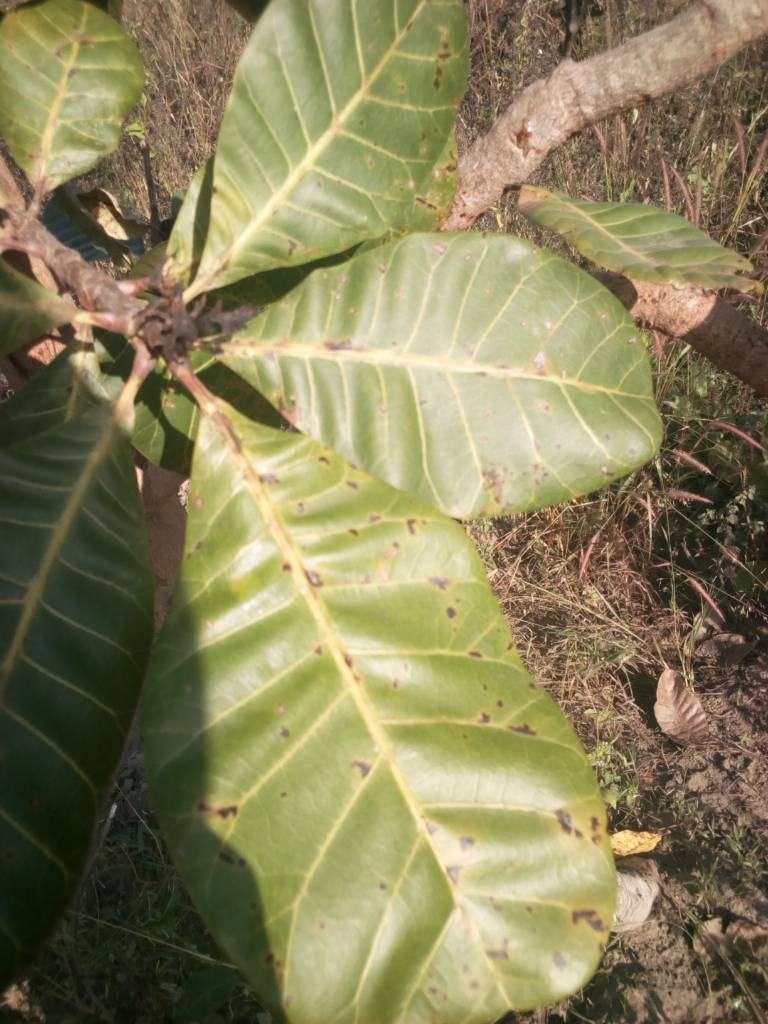Anthracnose: (172, 424, 618, 1016)
